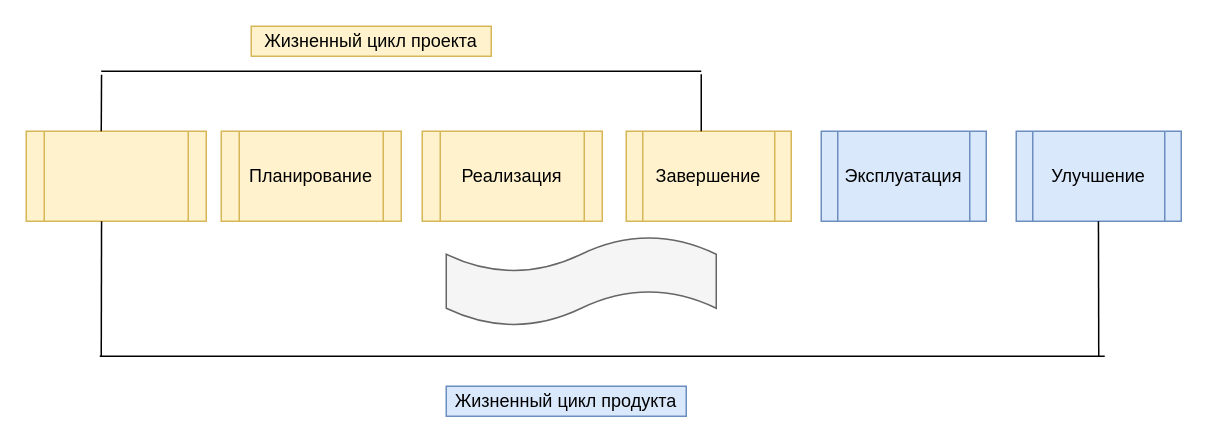
This 1208x443 diagram has some shape labels left out. Here are the shapes that lost their labels. From the top down, the centre of each, then its label:
the point at 115,175: Инициирование
the point at 580,280: Мониторинг и оценка
